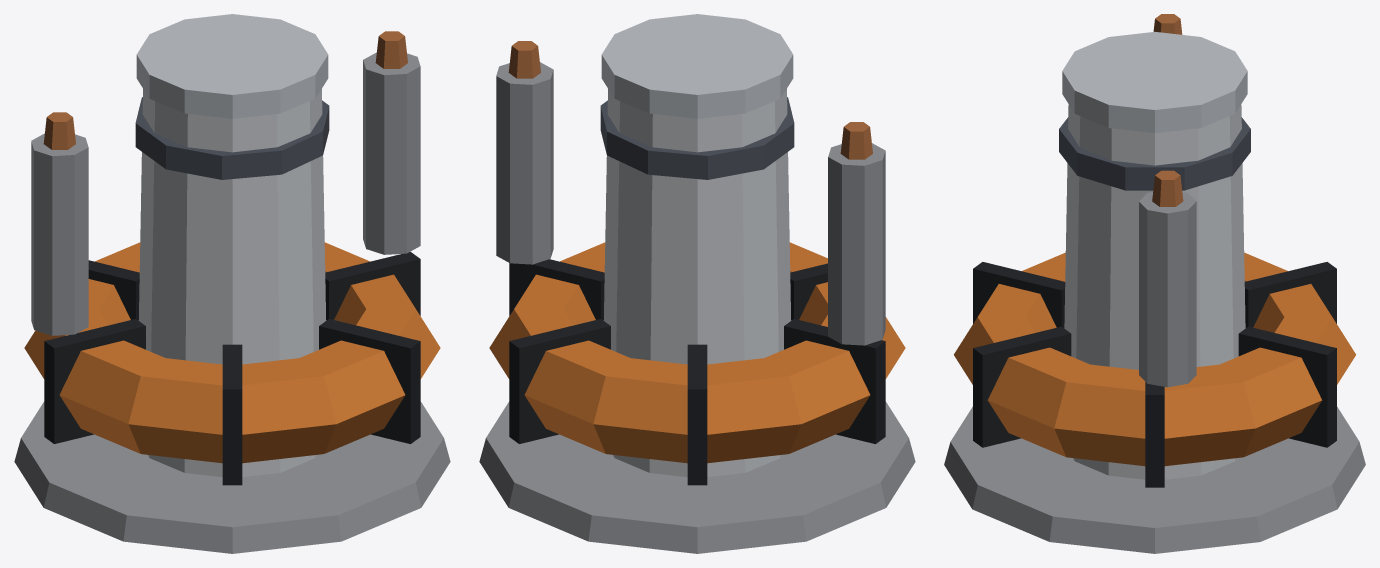
File: edl-aspire-loftid.glb
3 views of the same model, side by side, from view 1: azimuth 30°, elevation 25°; view 2: azimuth 150°, elevation 25°; view 3: azimuth 270°, elevation 25° (orthographic). The views are drawn at different scales.
Visible parts, largest first — view 1: EdlAspireLoftid_Titanium, EdlAspireLoftid_Aluminum, EdlAspireLoftid_Foam, EdlAspireLoftid_HullBlack, EdlAspireLoftid_Steel, EdlAspireLoftid_Strap, EdlAspireLoftid_Copper; view 2: EdlAspireLoftid_Titanium, EdlAspireLoftid_Aluminum, EdlAspireLoftid_Foam, EdlAspireLoftid_Steel, EdlAspireLoftid_HullBlack, EdlAspireLoftid_Strap, EdlAspireLoftid_Copper; view 3: EdlAspireLoftid_Titanium, EdlAspireLoftid_Foam, EdlAspireLoftid_Aluminum, EdlAspireLoftid_HullBlack, EdlAspireLoftid_Steel, EdlAspireLoftid_Strap, EdlAspireLoftid_Copper.
Boxes of the visible parts, bbox=[...] form: EdlAspireLoftid_Titanium: bbox=[14, 52, 450, 553]; EdlAspireLoftid_Aluminum: bbox=[138, 89, 326, 477]; EdlAspireLoftid_Foam: bbox=[24, 242, 440, 463]; EdlAspireLoftid_HullBlack: bbox=[44, 252, 420, 485]; EdlAspireLoftid_Steel: bbox=[136, 14, 328, 118]; EdlAspireLoftid_Strap: bbox=[135, 97, 329, 179]; EdlAspireLoftid_Copper: bbox=[43, 31, 407, 149]; EdlAspireLoftid_Titanium: bbox=[479, 62, 915, 553]; EdlAspireLoftid_Aluminum: bbox=[603, 89, 791, 477]; EdlAspireLoftid_Foam: bbox=[489, 242, 905, 463]; EdlAspireLoftid_Steel: bbox=[601, 14, 793, 118]; EdlAspireLoftid_HullBlack: bbox=[509, 259, 885, 485]; EdlAspireLoftid_Strap: bbox=[600, 97, 794, 179]; EdlAspireLoftid_Copper: bbox=[508, 41, 872, 159]; EdlAspireLoftid_Titanium: bbox=[944, 192, 1365, 553]; EdlAspireLoftid_Foam: bbox=[954, 252, 1355, 466]; EdlAspireLoftid_Aluminum: bbox=[1064, 104, 1245, 479]; EdlAspireLoftid_HullBlack: bbox=[973, 262, 1336, 487]; EdlAspireLoftid_Steel: bbox=[1062, 32, 1247, 133]; EdlAspireLoftid_Strap: bbox=[1059, 117, 1250, 190]; EdlAspireLoftid_Copper: bbox=[1152, 14, 1183, 206].
Size of the model in its own units: 0.67 by 0.68 by 0.66.
